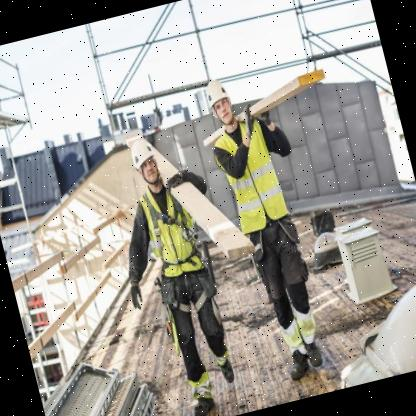bota: (282, 348, 312, 386), (302, 337, 330, 371), (186, 390, 222, 416), (216, 355, 242, 387)
capacete: (196, 74, 237, 112), (125, 133, 162, 173)
